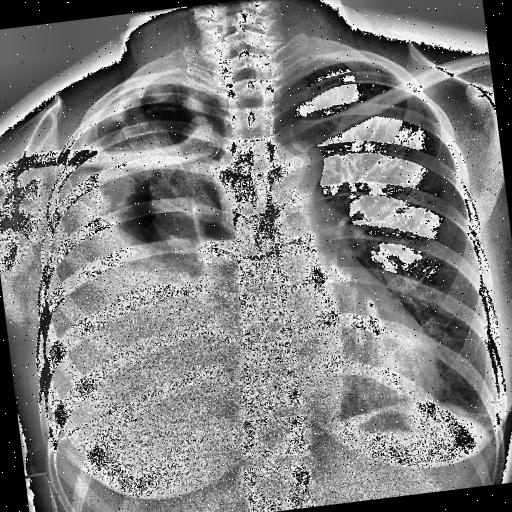10- Pleural effusion: (12, 64, 276, 488), (42, 86, 260, 468), (33, 154, 252, 432)
12- Pneumothorax: (52, 74, 200, 171), (68, 84, 198, 175)
4- Consolidation: (106, 112, 215, 246)
7- Lung Opacity: (62, 76, 222, 275), (81, 100, 224, 290)
